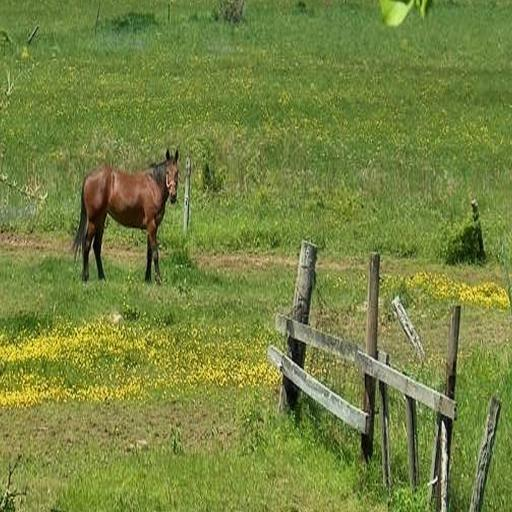horse: (69, 142, 178, 288)
